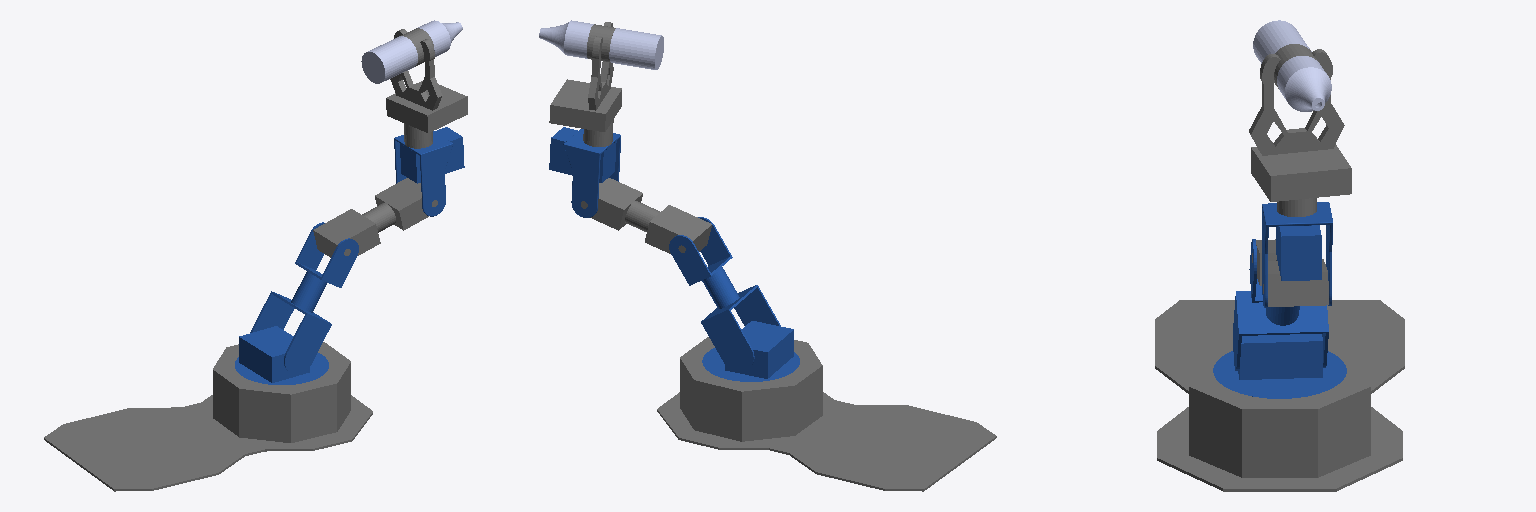
robot.urdf — robot_urdf_v9:
<?xml version="1.0" encoding="utf-8"?>
<!-- This URDF was automatically created by SolidWorks to URDF Exporter! Originally created by [author] ([email redacted]) 
     Commit Version: 1.6.0-1-g15f4949  Build Version: 1.6.7594.29634
     For more information, please see http://wiki.ros.org/sw_urdf_exporter -->
<robot
  name="robot_urdf_v9">
  <link
    name="base_link">
    <inertial>
      <origin
        xyz="-0.010725287622038 -5.55111512312578E-17 0.0196110486694259"
        rpy="0 0 0" />
      <mass
        value="0.507968943099814" />
      <inertia
        ixx="0.000615478419229214"
        ixy="1.81865140104002E-19"
        ixz="-0.00010139509653096"
        iyy="0.00129176722491481"
        iyz="9.58285334741693E-20"
        izz="0.00170980703054353" />
    </inertial>
    <visual>
      <origin
        xyz="0 0 0"
        rpy="0 0 0" />
      <geometry>
        <mesh
          filename="package://robot_urdf_v9/meshes/base_link.STL" />
      </geometry>
      <material
        name="">
        <color
          rgba="0.501960784313725 0.501960784313725 0.501960784313725 1" />
      </material>
    </visual>
    <collision>
      <origin
        xyz="0 0 0"
        rpy="0 0 0" />
      <geometry>
        <mesh
          filename="package://robot_urdf_v9/meshes/base_link.STL" />
      </geometry>
    </collision>
  </link>
  <link
    name="link_01">
    <inertial>
      <origin
        xyz="-0.0035531 0 0.014248"
        rpy="0 0 0" />
      <mass
        value="0.11708" />
      <inertia
        ixx="5.3193E-05"
        ixy="-2.1176E-22"
        ixz="4.2648E-06"
        iyy="5.0147E-05"
        iyz="-5.9939E-21"
        izz="7.6524E-05" />
    </inertial>
    <visual>
      <origin
        xyz="0 0 0"
        rpy="0 0 0" />
      <geometry>
        <mesh
          filename="package://robot_urdf_v9/meshes/link_01.STL" />
      </geometry>
      <material
        name="">
        <color
          rgba="0.2 0.4 0.69804 1" />
      </material>
    </visual>
    <collision>
      <origin
        xyz="0 0 0"
        rpy="0 0 0" />
      <geometry>
        <mesh
          filename="package://robot_urdf_v9/meshes/link_01.STL" />
      </geometry>
    </collision>
  </link>
  <joint
    name="joint_01"
    type="revolute">
    <origin
      xyz="0 0 0.037"
      rpy="0 0 0.072771" />
    <parent
      link="base_link" />
    <child
      link="link_01" />
    <axis
      xyz="0 0 1" />
    <limit
      lower="-2"
      upper="2"
      effort="1.4"
      velocity="4.5" />
  </joint>
  <link
    name="link_02">
    <inertial>
      <origin
        xyz="1.3878E-17 -5.5511E-17 0.048627"
        rpy="0 0 0" />
      <mass
        value="0.026007" />
      <inertia
        ixx="2.6165E-05"
        ixy="-4.1293E-21"
        ixz="-5.4428E-21"
        iyy="2.0139E-05"
        iyz="-6.4824E-20"
        izz="8.7189E-06" />
    </inertial>
    <visual>
      <origin
        xyz="0 0 0"
        rpy="0 0 0" />
      <geometry>
        <mesh
          filename="package://robot_urdf_v9/meshes/link_02.STL" />
      </geometry>
      <material
        name="">
        <color
          rgba="0.2 0.4 0.69804 1" />
      </material>
    </visual>
    <collision>
      <origin
        xyz="0 0 0"
        rpy="0 0 0" />
      <geometry>
        <mesh
          filename="package://robot_urdf_v9/meshes/link_02.STL" />
      </geometry>
    </collision>
  </link>
  <joint
    name="joint_02"
    type="revolute">
    <origin
      xyz="0 0 0.03"
      rpy="0 0.57607 0" />
    <parent
      link="link_01" />
    <child
      link="link_02" />
    <axis
      xyz="0 -1 0" />
    <limit
      lower="-1.2"
      upper="1.57"
      effort="1.9"
      velocity="4.7" />
  </joint>
  <link
    name="link_03">
    <inertial>
      <origin
        xyz="5.5511E-17 0 0.0475"
        rpy="0 0 0" />
      <mass
        value="0.075999" />
      <inertia
        ixx="9.4655E-05"
        ixy="-5.294E-22"
        ixz="2.259E-21"
        iyy="8.893E-05"
        iyz="-4.844E-20"
        izz="1.1131E-05" />
    </inertial>
    <visual>
      <origin
        xyz="0 0 0"
        rpy="0 0 0" />
      <geometry>
        <mesh
          filename="package://robot_urdf_v9/meshes/link_03.STL" />
      </geometry>
      <material
        name="">
        <color
          rgba="0.50196 0.50196 0.50196 1" />
      </material>
    </visual>
    <collision>
      <origin
        xyz="0 0 0"
        rpy="0 0 0" />
      <geometry>
        <mesh
          filename="package://robot_urdf_v9/meshes/link_03.STL" />
      </geometry>
    </collision>
  </link>
  <joint
    name="joint_03"
    type="revolute">
    <origin
      xyz="0 0 0.101"
      rpy="0 0.75371 0" />
    <parent
      link="link_02" />
    <child
      link="link_03" />
    <axis
      xyz="0 1 0" />
    <limit
      lower="-2"
      upper="2"
      effort="1.4"
      velocity="4.5" />
  </joint>
  <link
    name="link_04">
    <inertial>
      <origin
        xyz="0.011163 1.0543E-09 0.034295"
        rpy="0 0 0" />
      <mass
        value="0.046394" />
      <inertia
        ixx="1.1191E-05"
        ixy="7.2765E-13"
        ixz="-6.4982E-07"
        iyy="1.5732E-05"
        iyz="1.3862E-13"
        izz="1.4163E-05" />
    </inertial>
    <visual>
      <origin
        xyz="0 0 0"
        rpy="0 0 0" />
      <geometry>
        <mesh
          filename="package://robot_urdf_v9/meshes/link_04.STL" />
      </geometry>
      <material
        name="">
        <color
          rgba="0.2 0.4 0.69804 1" />
      </material>
    </visual>
    <collision>
      <origin
        xyz="0 0 0"
        rpy="0 0 0" />
      <geometry>
        <mesh
          filename="package://robot_urdf_v9/meshes/link_04.STL" />
      </geometry>
    </collision>
  </link>
  <joint
    name="joint_04"
    type="revolute">
    <origin
      xyz="0 0 0.095"
      rpy="0 -1.3812 0" />
    <parent
      link="link_03" />
    <child
      link="link_04" />
    <axis
      xyz="0 -1 0" />
    <limit
      lower="-2"
      upper="2"
      effort="1.4"
      velocity="4.5" />
  </joint>
  <link
    name="link_05">
    <inertial>
      <origin
        xyz="0.0078558 -2.6023E-08 0.035139"
        rpy="0 0 0" />
      <mass
        value="0.068112" />
      <inertia
        ixx="4.4822E-05"
        ixy="3.1185E-11"
        ixz="2.3489E-06"
        iyy="4.2894E-05"
        iyz="1.0481E-10"
        izz="2.534E-05" />
    </inertial>
    <visual>
      <origin
        xyz="0 0 0"
        rpy="0 0 0" />
      <geometry>
        <mesh
          filename="package://robot_urdf_v9/meshes/link_05.STL" />
      </geometry>
      <material
        name="">
        <color
          rgba="0.50196 0.50196 0.50196 1" />
      </material>
    </visual>
    <collision>
      <origin
        xyz="0 0 0"
        rpy="0 0 0" />
      <geometry>
        <mesh
          filename="package://robot_urdf_v9/meshes/link_05.STL" />
      </geometry>
    </collision>
  </link>
  <joint
    name="joint_05"
    type="revolute">
    <origin
      xyz="0 0 0.052"
      rpy="0 0 0.17662" />
    <parent
      link="link_04" />
    <child
      link="link_05" />
    <axis
      xyz="0 0 1" />
    <limit
      lower="-2"
      upper="2"
      effort="1.4"
      velocity="4.5" />
  </joint>
  <link
    name="eef">
    <inertial>
      <origin
        xyz="-0.0085735 -1.7192E-09 -3.3611E-09"
        rpy="0 0 0" />
      <mass
        value="0.055335" />
      <inertia
        ixx="5.8626E-06"
        ixy="9.5302E-12"
        ixz="6.0728E-12"
        iyy="3.8274E-05"
        iyz="4.4865E-11"
        izz="3.8274E-05" />
    </inertial>
    <visual>
      <origin
        xyz="0 0 0"
        rpy="0 0 0" />
      <geometry>
        <mesh
          filename="package://robot_urdf_v9/meshes/eef.STL" />
      </geometry>
      <material
        name="">
        <color
          rgba="0.79216 0.81961 0.93333 1" />
      </material>
    </visual>
    <collision>
      <origin
        xyz="0 0 0"
        rpy="0 0 0" />
      <geometry>
        <mesh
          filename="package://robot_urdf_v9/meshes/eef.STL" />
      </geometry>
    </collision>
  </link>
  <joint
    name="joint_null"
    type="fixed">
    <origin
      xyz="0 0 0.092"
      rpy="0 0 0" />
    <parent
      link="link_05" />
    <child
      link="eef" />
    <axis
      xyz="0 0 0" />
  </joint>
</robot>

--- Facts derived from the render (not from the file) ---
3 views of the same robot in one strip: view 1: azimuth 30°, elevation 25°; view 2: azimuth 150°, elevation 25°; view 3: azimuth 270°, elevation 25° (orthographic).
Robot: robot_urdf_v9 — 7 links, 6 joints (5 revolute, 1 fixed); root link base_link; default pose: every joint at zero.
Links seen in each view (by area): view 1: base_link, link_02, link_05, link_03, link_04, link_01, eef; view 2: base_link, link_02, link_05, link_03, link_04, link_01, eef; view 3: base_link, link_05, link_01, link_04, link_02, eef, link_03.
Link boxes in pixels (x1=…): base_link: x1=44, y1=342, x2=372, y2=491; link_02: x1=250, y1=222, x2=358, y2=374; link_05: x1=386, y1=28, x2=467, y2=148; link_03: x1=313, y1=178, x2=437, y2=257; link_04: x1=394, y1=127, x2=464, y2=216; link_01: x1=235, y1=326, x2=328, y2=384; eef: x1=361, y1=20, x2=462, y2=83; base_link: x1=657, y1=337, x2=996, y2=491; link_02: x1=669, y1=217, x2=780, y2=371; link_05: x1=549, y1=22, x2=621, y2=146; link_03: x1=581, y1=178, x2=711, y2=253; link_04: x1=549, y1=127, x2=620, y2=217; link_01: x1=702, y1=321, x2=799, y2=381; eef: x1=539, y1=20, x2=663, y2=69; base_link: x1=1155, y1=300, x2=1404, y2=491; link_05: x1=1249, y1=44, x2=1351, y2=216; link_01: x1=1213, y1=334, x2=1346, y2=398; link_04: x1=1262, y1=202, x2=1332, y2=307; link_02: x1=1233, y1=239, x2=1328, y2=370; eef: x1=1253, y1=20, x2=1331, y2=111; link_03: x1=1252, y1=239, x2=1328, y2=306.
Bounding box of the posed robot: 0.3987 × 0.155 × 0.3347 m (x, y, z).
7 mesh visuals loaded from 7 distinct referenced files (7 binary STL).